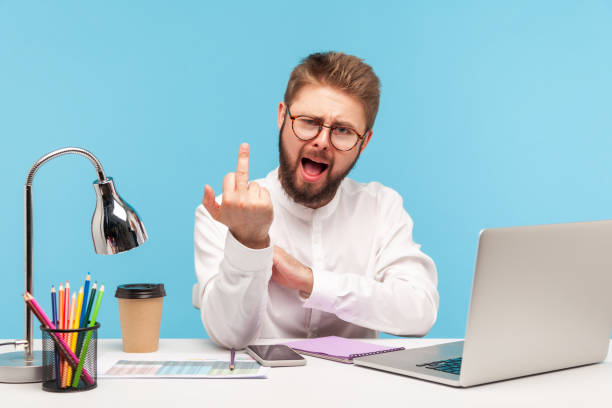insulting_gesture: (203, 140, 278, 244)
